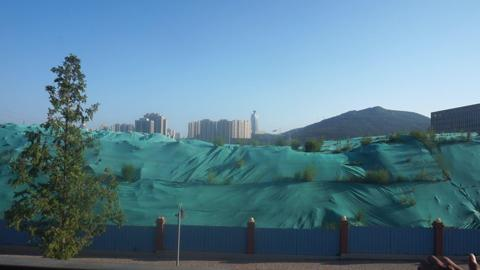UAV: (272, 129, 278, 132)
